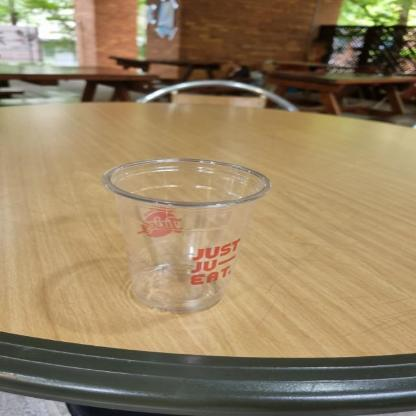Plastic Cup: (94, 153, 278, 319)
